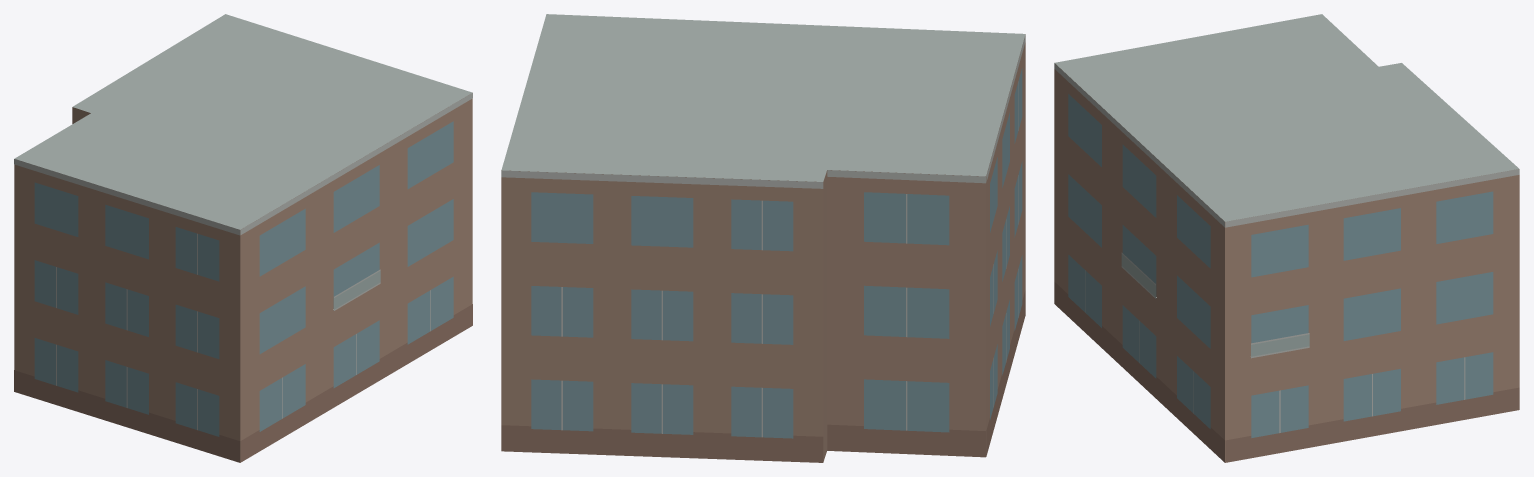
The model's file is survey-upis-32741636.glb.
The picture shows the model from 3 angles, left to right: view 1: azimuth 30°, elevation 25°; view 2: azimuth 150°, elevation 25°; view 3: azimuth 270°, elevation 25°; orthographic projection. The views are drawn at different scales.
Parts seen in each view (by area): view 1: survey-upis-32741636.tmp; view 2: survey-upis-32741636.tmp; view 3: survey-upis-32741636.tmp.
Boxes of the visible parts, x1,y1,x2,y2 form: survey-upis-32741636.tmp: (14,14,472,462); survey-upis-32741636.tmp: (501,14,1025,462); survey-upis-32741636.tmp: (1054,14,1519,462).
Size of the model in its own units: 18.42 by 9.96 by 17.43.
